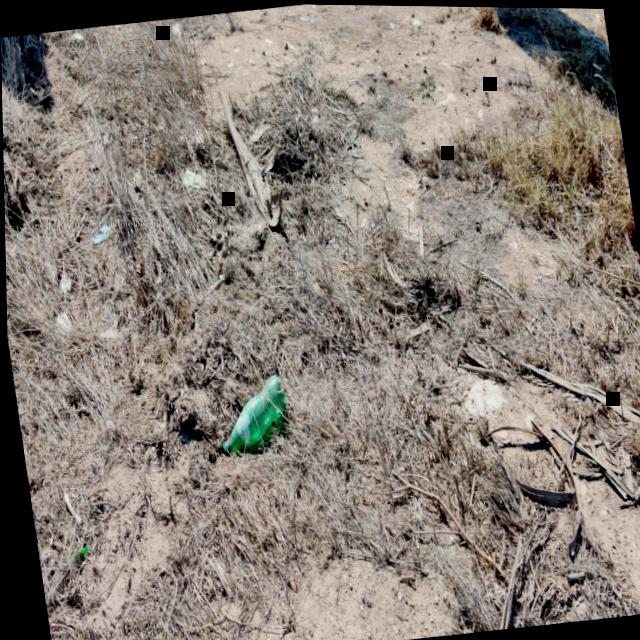Clear plastic bottle: (220, 374, 285, 455)
Other plastic bottle: (68, 544, 87, 557)
Plastic bottle cap: (220, 442, 227, 456)
Unlabeled litter: (182, 167, 207, 188), (90, 223, 109, 244)
